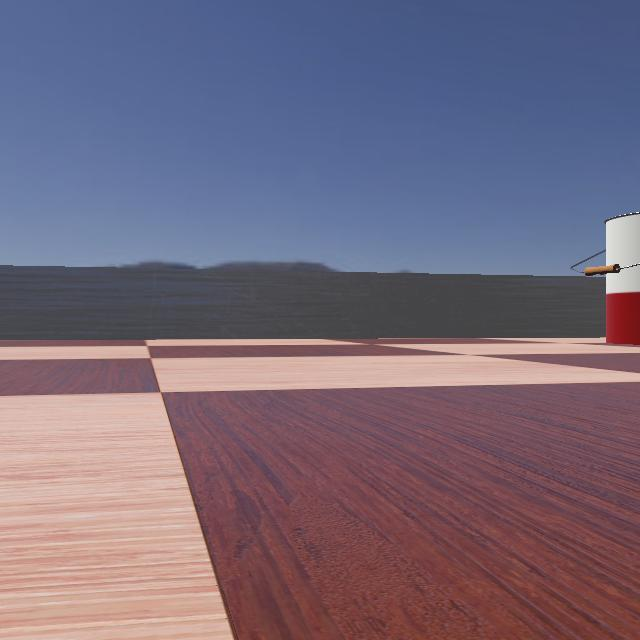paint-bucket: (556, 201, 640, 347)
